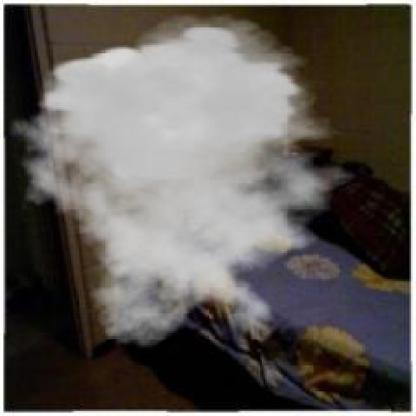Smoke: (5, 13, 374, 349)
